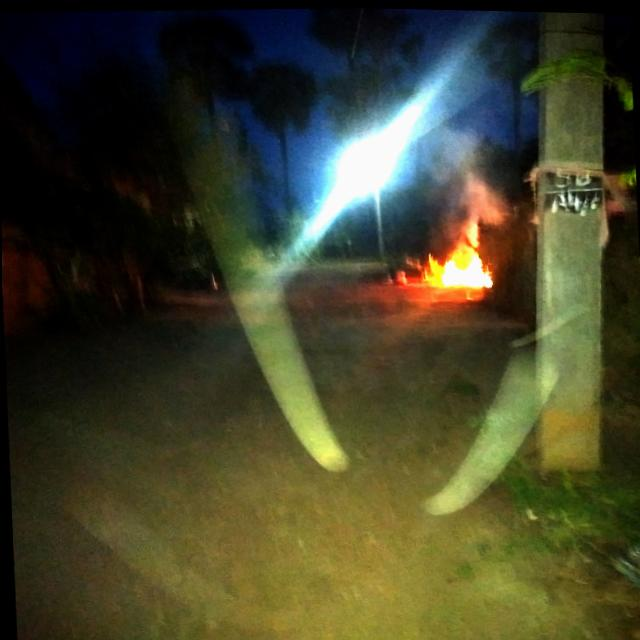helmet: (431, 244, 493, 287)
